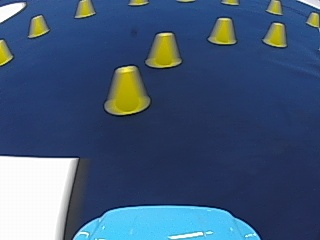cone: (104, 65, 150, 114), (146, 31, 181, 68), (208, 17, 236, 45), (262, 22, 287, 47), (28, 14, 48, 38), (75, 0, 94, 18), (0, 39, 13, 65), (266, 0, 281, 15), (305, 12, 318, 27)
